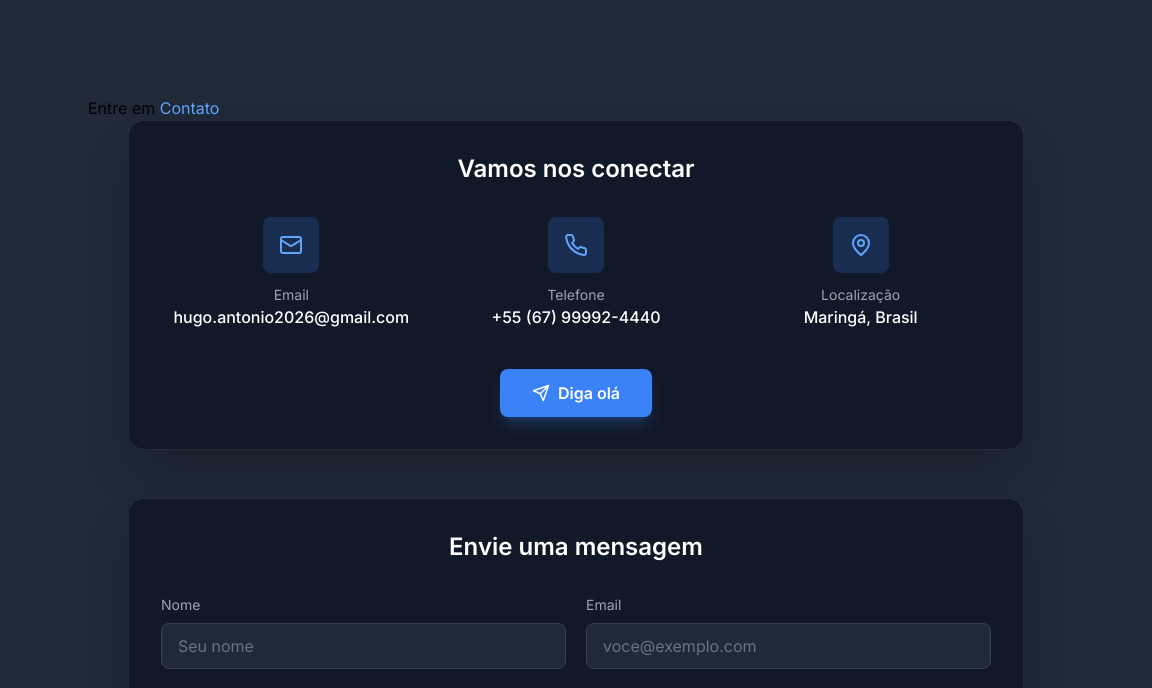
Test: Contact form › shows an error state when the request fails
Step 1. Type "Hugo" into the field labelled "Nome" → (364, 646), box 161,623 -> 566,669
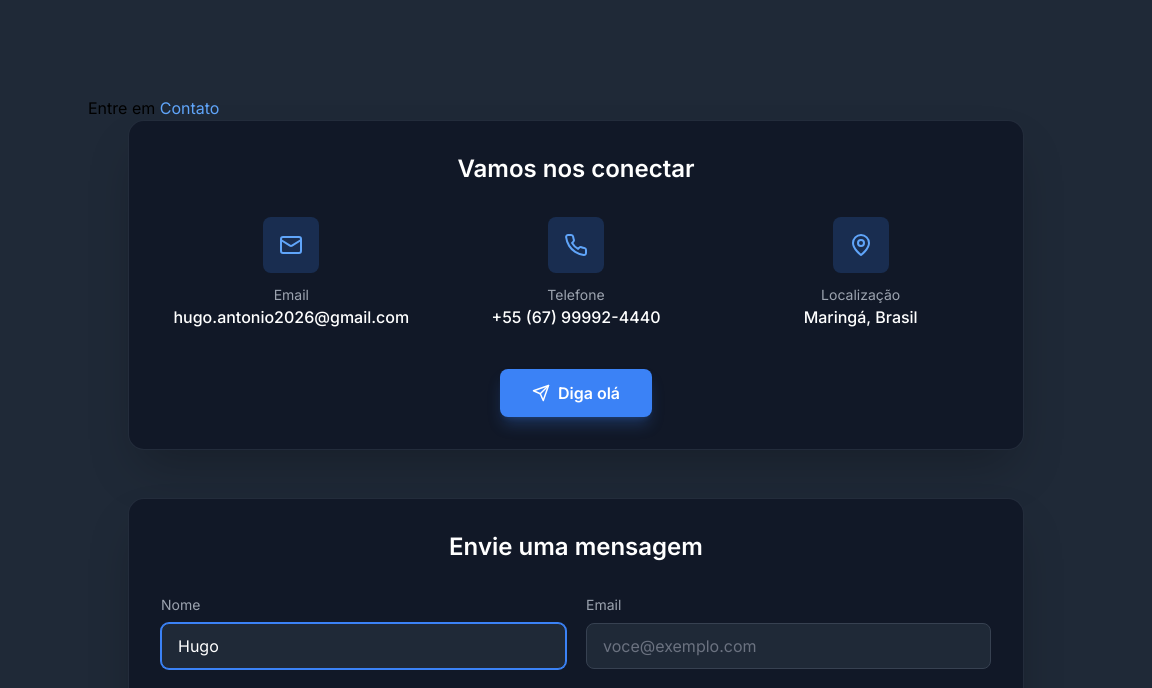
Step 2. Type "hugo@example.com" into the field labelled "Email" → (788, 646), box 586,623 -> 991,669
(page scrolled)
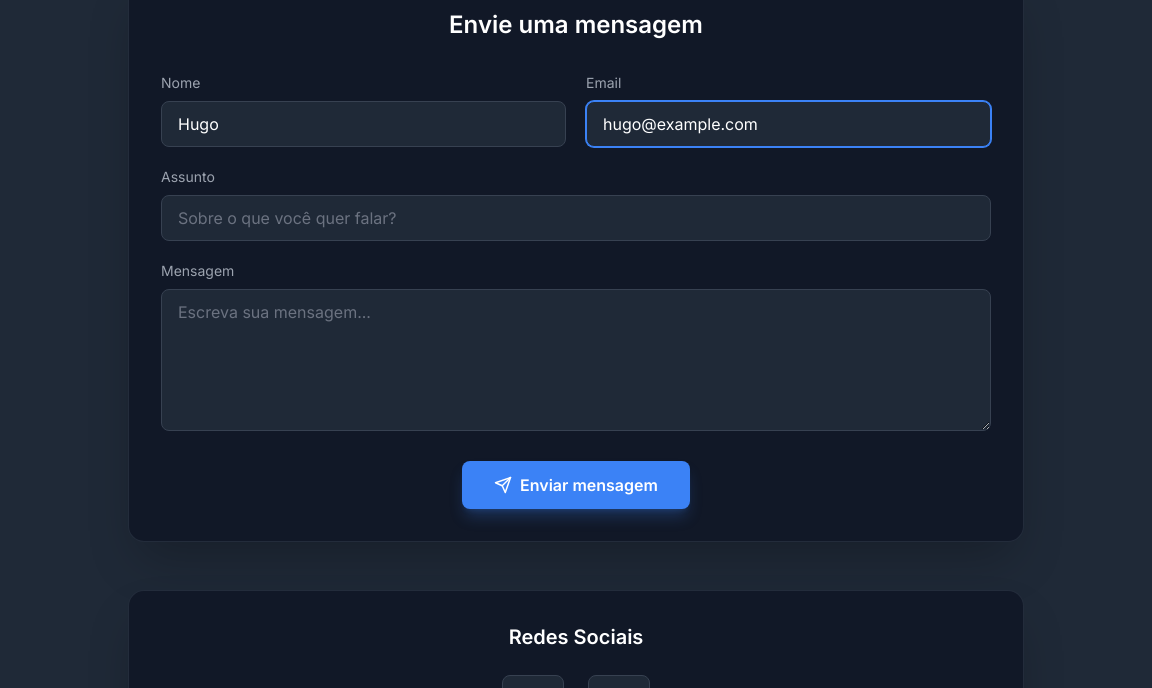
Step 3. Type "test" into the text box labelled "Mensagem" → (576, 360), box 161,289 -> 991,431
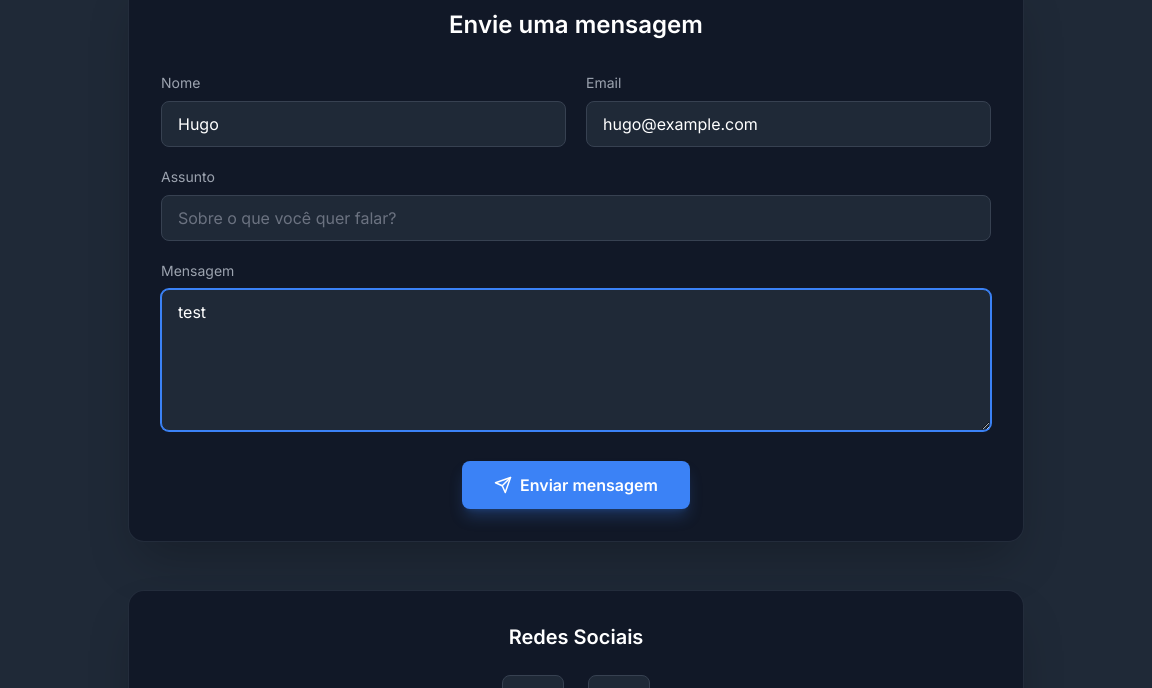
Step 4. Click the button "Enviar mensagem" → (576, 485), box 462,461 -> 690,509
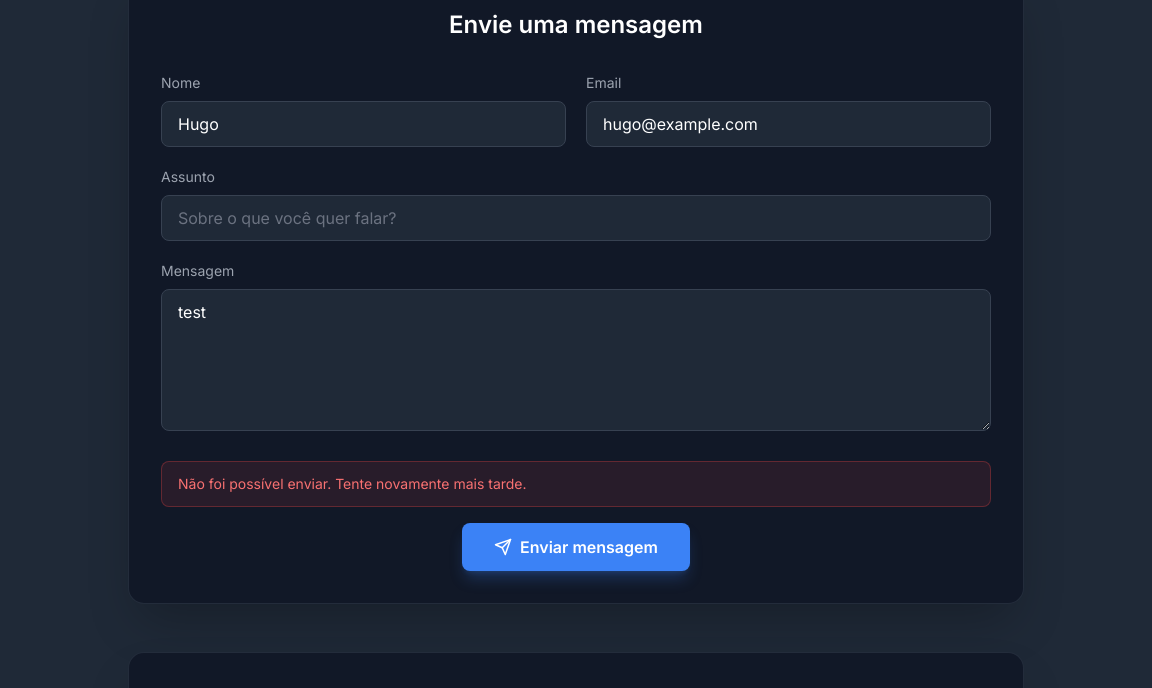
expect the text "Não foi possível enviar. Tente novamente mais tarde." is shown: met, box 161,461 -> 991,507
